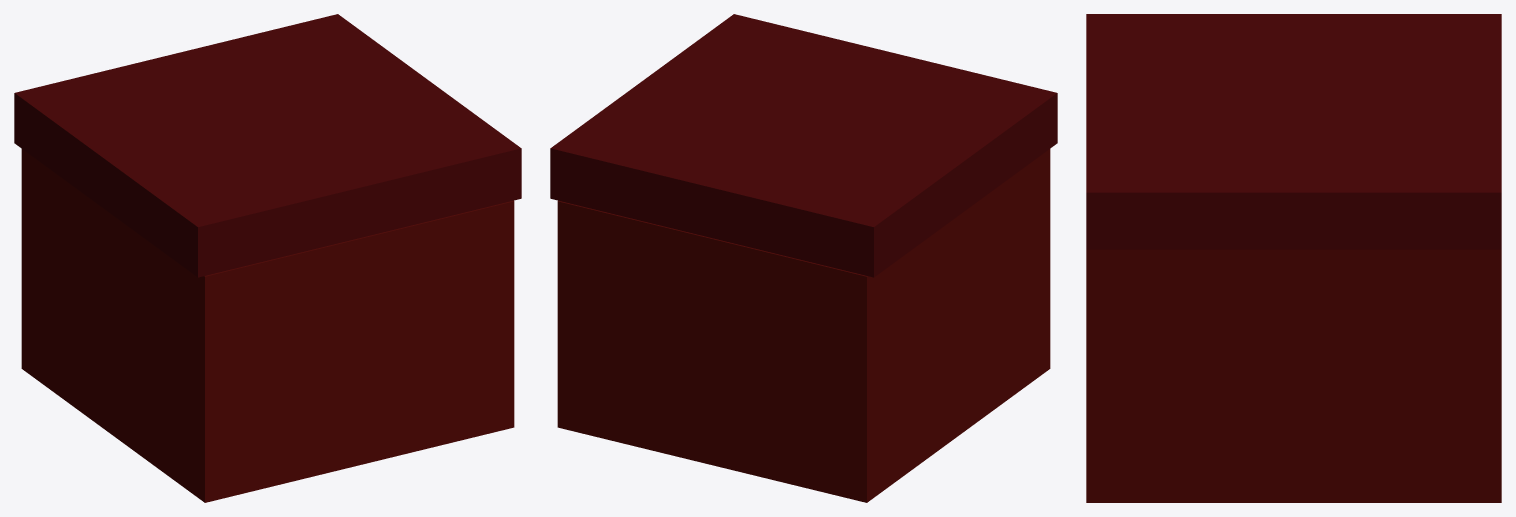
File: ESCRITORIO1.fbx
The picture shows the model from 3 angles, left to right: view 1: azimuth 30°, elevation 25°; view 2: azimuth 150°, elevation 25°; view 3: azimuth 270°, elevation 25°; orthographic projection. The views are drawn at different scales.
Parts seen in each view (by area): view 1: Cube.005, Cube.006; view 2: Cube.005, Cube.006; view 3: Cube.005, Cube.006.
Boxes of the visible parts, left/top/right/bottom form: Cube.005: left=21, top=149, right=514, bottom=502; Cube.006: left=14, top=14, right=521, bottom=277; Cube.005: left=557, top=149, right=1050, bottom=502; Cube.006: left=550, top=14, right=1057, bottom=277; Cube.005: left=1086, top=249, right=1501, bottom=502; Cube.006: left=1086, top=14, right=1501, bottom=249.
Bounding box in the file's own units: 153 × 125 × 150.
